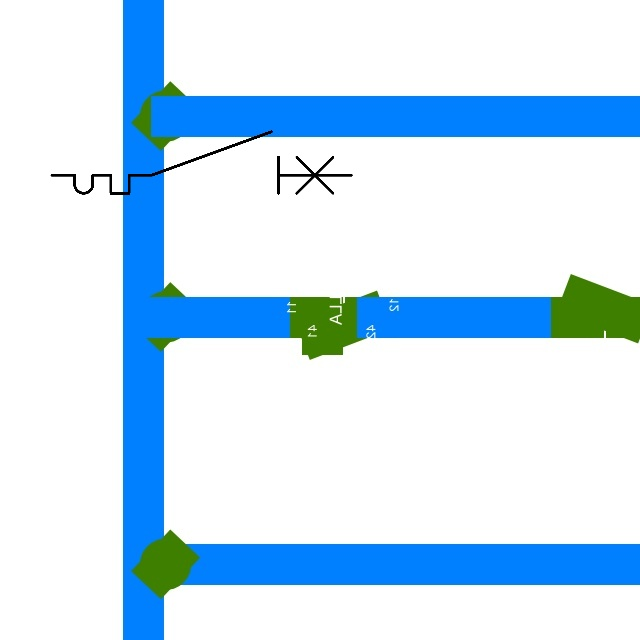interruptor_termomagnetico: (44, 124, 359, 201)
